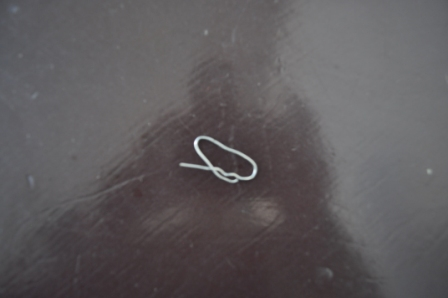METAL WIRE: (178, 135, 259, 185)
